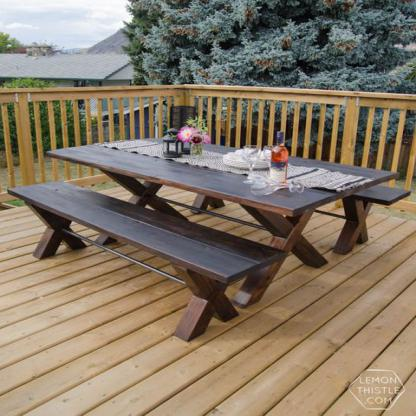table: (6, 126, 415, 348)
